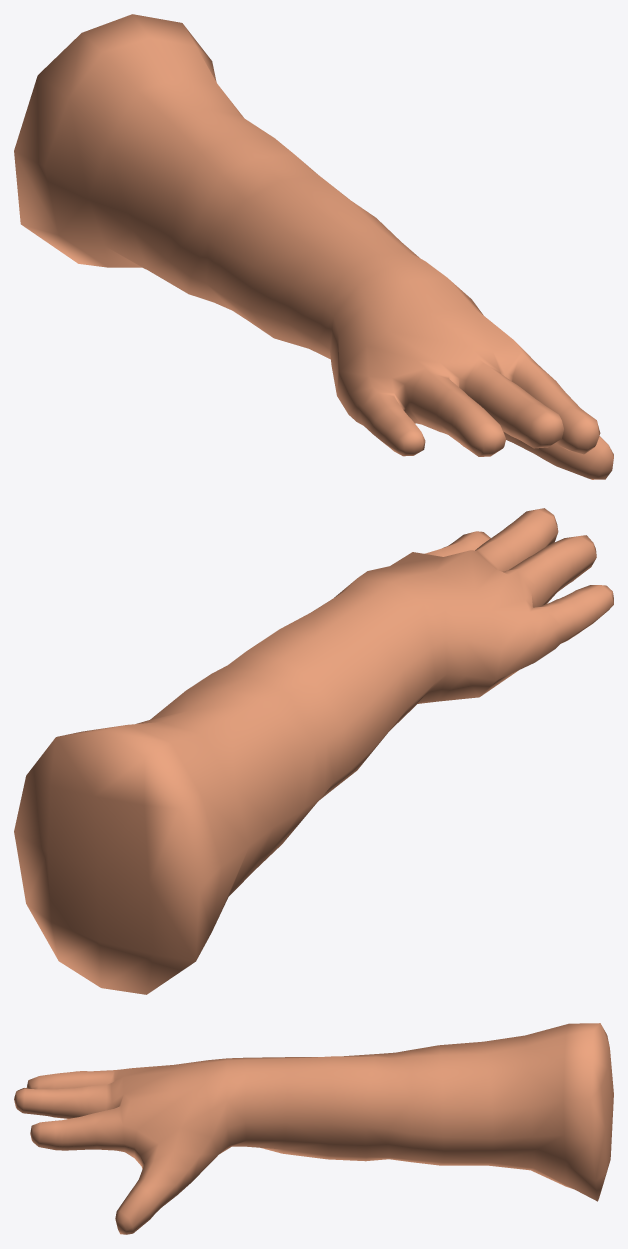
File: right_hand.fbx
3 renders of one model, top to bottom at view 1: azimuth 30°, elevation 25°; view 2: azimuth 150°, elevation 25°; view 3: azimuth 270°, elevation 25°, orthographic. The views are drawn at different scales.
Visible parts, largest first — view 1: right_hand; view 2: right_hand; view 3: right_hand.
Part boxes in pixels (left/top/right/bottom): right_hand: left=14, top=14, right=613, bottom=479; right_hand: left=14, top=508, right=613, bottom=994; right_hand: left=14, top=1023, right=613, bottom=1234.
Bounding box in the file's own units: 0.1507 × 0.1415 × 0.4584.
